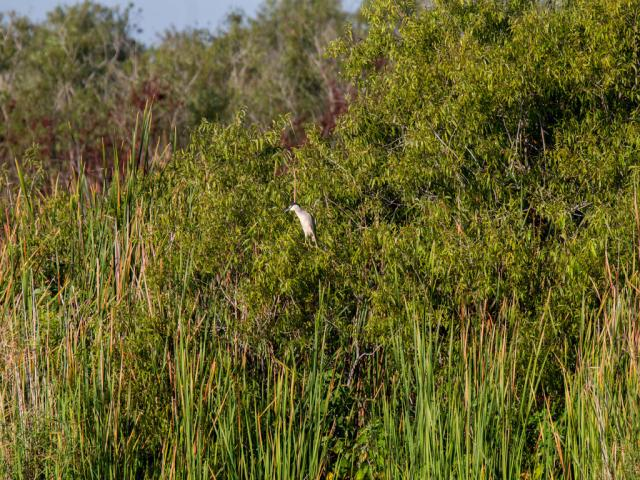Bird: (282, 202, 320, 252)
